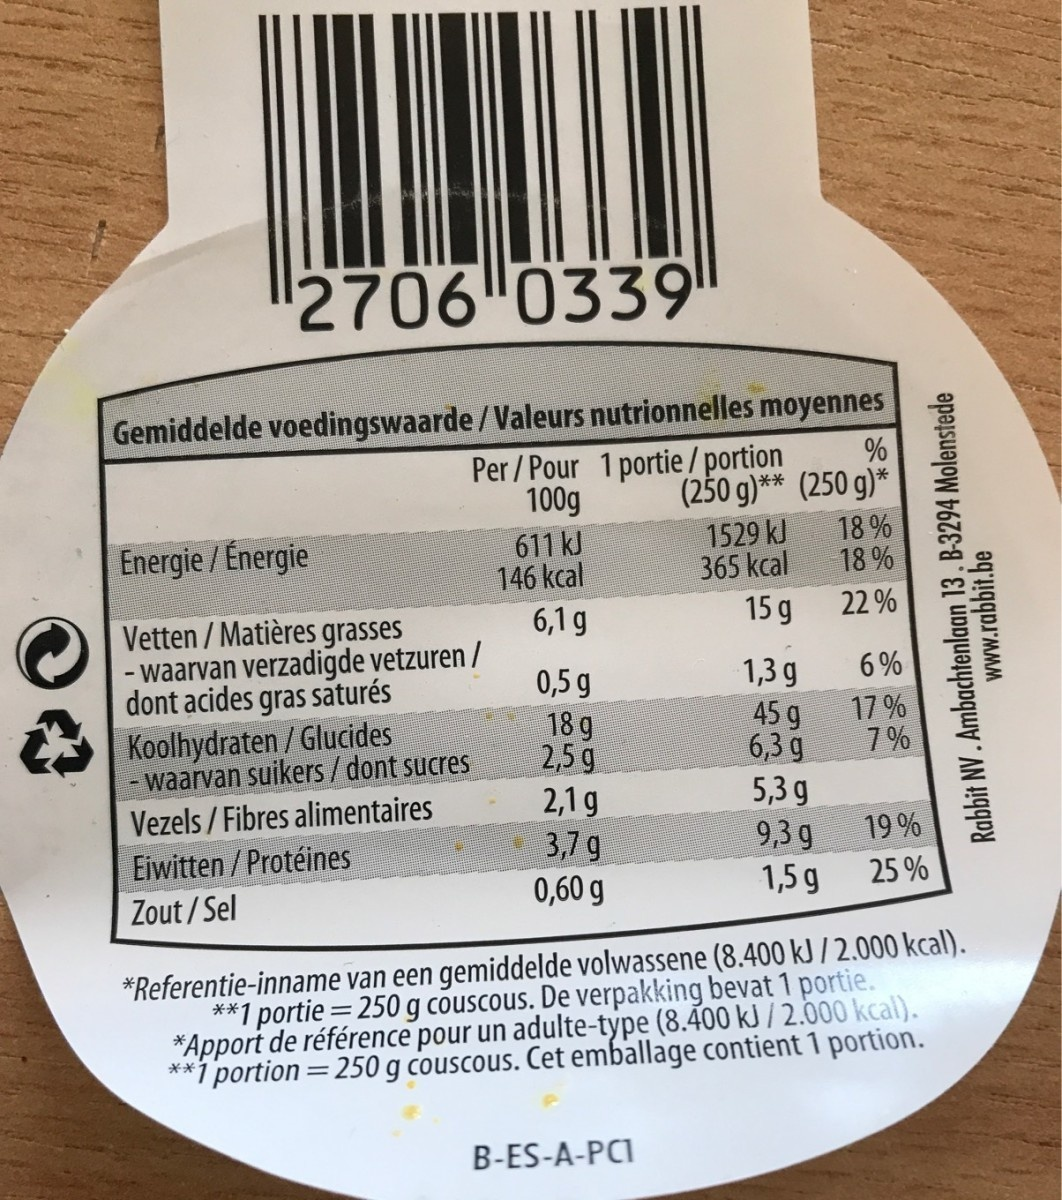column: (100, 536, 483, 954), (618, 435, 795, 948), (827, 440, 952, 951), (496, 459, 604, 916)
table: (98, 339, 952, 950)
